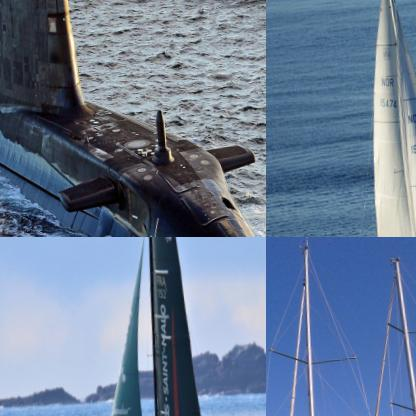Sails Boat: (40, 237, 248, 415), (266, 237, 415, 415), (315, 0, 415, 236), (351, 245, 415, 415)
Submarine: (0, 0, 265, 236)
